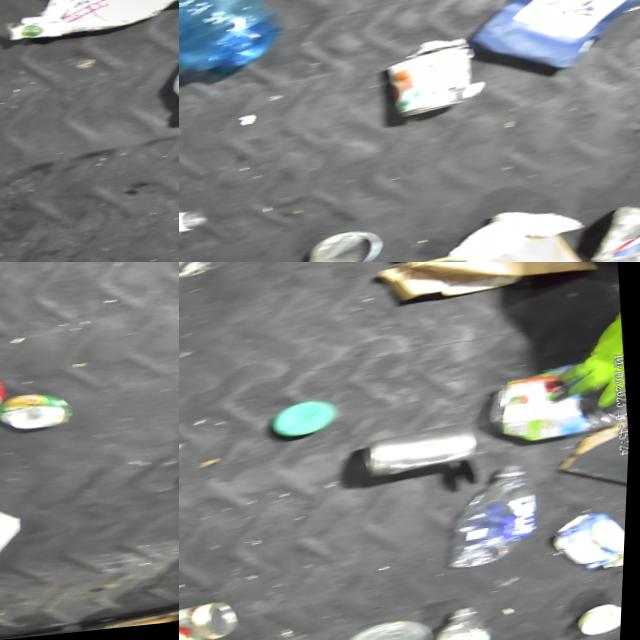can: (382, 36, 492, 127), (357, 425, 487, 497), (0, 387, 77, 440), (305, 227, 389, 262)
plastic_bottle: (433, 470, 551, 586), (390, 608, 517, 640), (179, 190, 214, 255)
